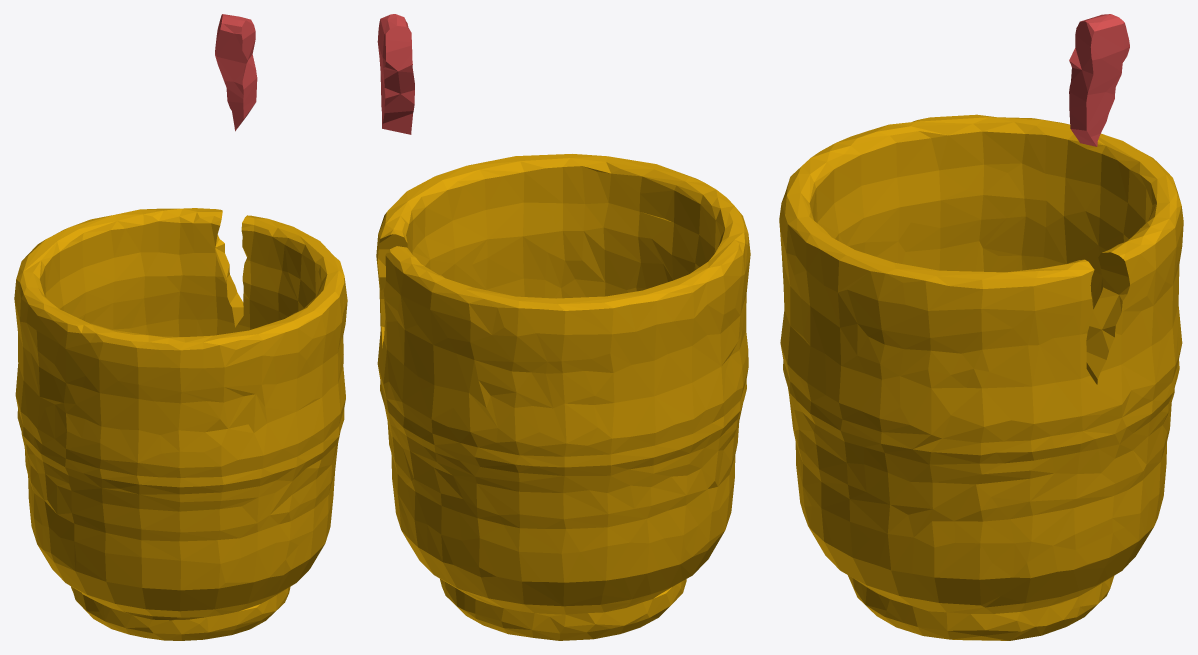
Rendered from fractured_1_2pcs_transformed.glb.
3 views of the same model, side by side, from view 1: azimuth 30°, elevation 25°; view 2: azimuth 150°, elevation 25°; view 3: azimuth 270°, elevation 25° (orthographic). The views are drawn at different scales.
Parts seen in each view (by area): view 1: piece_0.obj, piece_1.obj; view 2: piece_0.obj, piece_1.obj; view 3: piece_0.obj, piece_1.obj.
Boxes of the visible parts, x1,y1,x2,y2 form: piece_0.obj: (14,208,347,640); piece_1.obj: (215,14,257,131); piece_0.obj: (376,154,750,640); piece_1.obj: (377,14,414,134); piece_0.obj: (779,114,1183,640); piece_1.obj: (1069,14,1129,146).
Bounding box in the file's own units: 0.9237 × 1.6 × 0.923.
